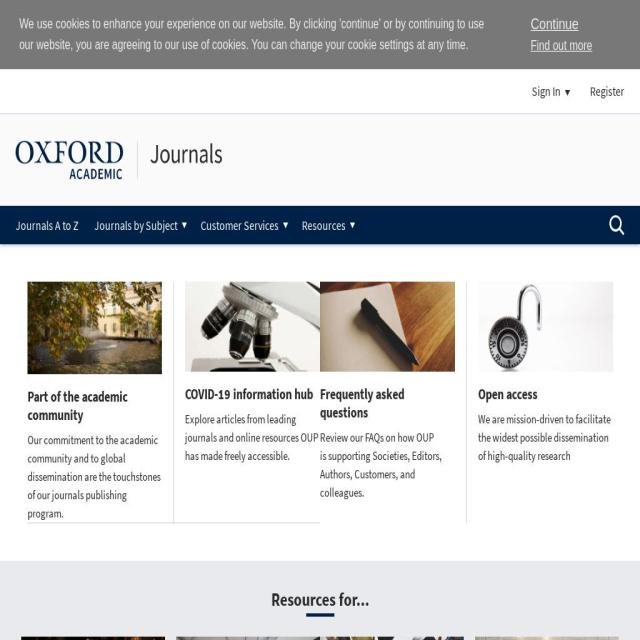button: (27, 281, 162, 374), (185, 280, 320, 372), (320, 280, 455, 372), (478, 280, 613, 372), (320, 384, 455, 422), (27, 387, 162, 424), (94, 205, 178, 244), (200, 205, 278, 244), (185, 384, 320, 404), (478, 384, 613, 404), (16, 205, 78, 244), (302, 205, 346, 244), (21, 636, 165, 640), (176, 636, 320, 640), (320, 636, 464, 640), (475, 636, 619, 640), (610, 215, 624, 236)
heading: (16, 140, 222, 179), (320, 384, 455, 422), (27, 387, 162, 424), (185, 384, 320, 404), (478, 384, 613, 404), (270, 590, 370, 608)
image: (27, 281, 162, 374), (185, 280, 320, 372), (320, 280, 455, 372), (478, 280, 613, 372), (21, 636, 165, 640), (176, 636, 320, 640), (320, 636, 464, 640), (475, 636, 619, 640)
link: (530, 15, 579, 33), (530, 38, 592, 52), (590, 82, 624, 100)
text: (18, 13, 500, 55), (27, 430, 162, 522), (320, 428, 455, 502), (185, 409, 320, 465), (478, 409, 613, 465), (532, 82, 562, 100)
